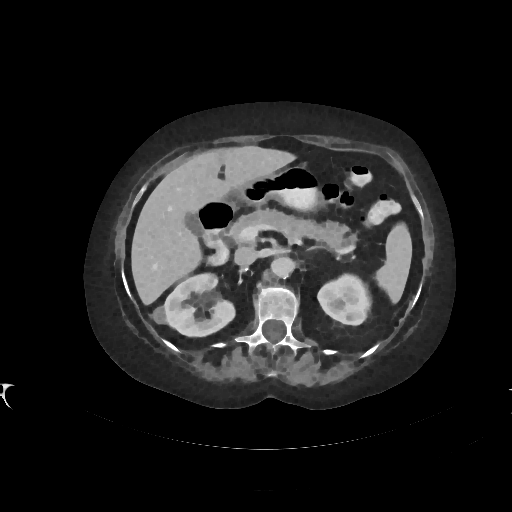Lesion: (148, 302, 171, 326)
